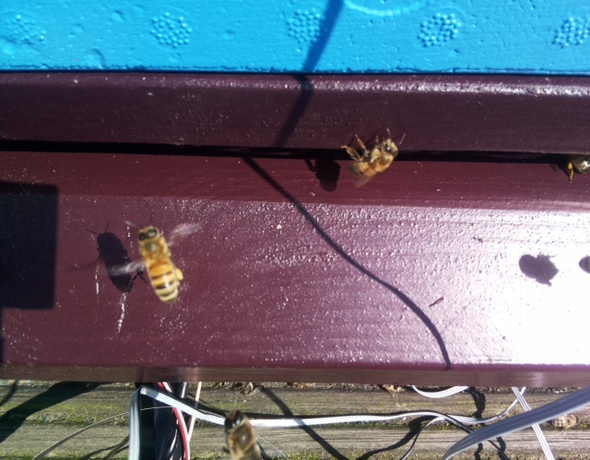no_pollen: (347, 135, 401, 183), (221, 406, 267, 460)
pollen: (131, 221, 185, 304), (564, 151, 590, 183)
